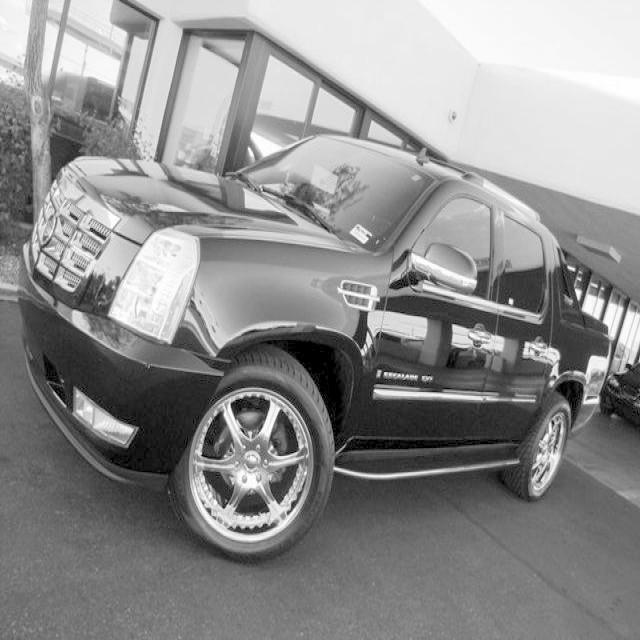car: (16, 130, 613, 562)
